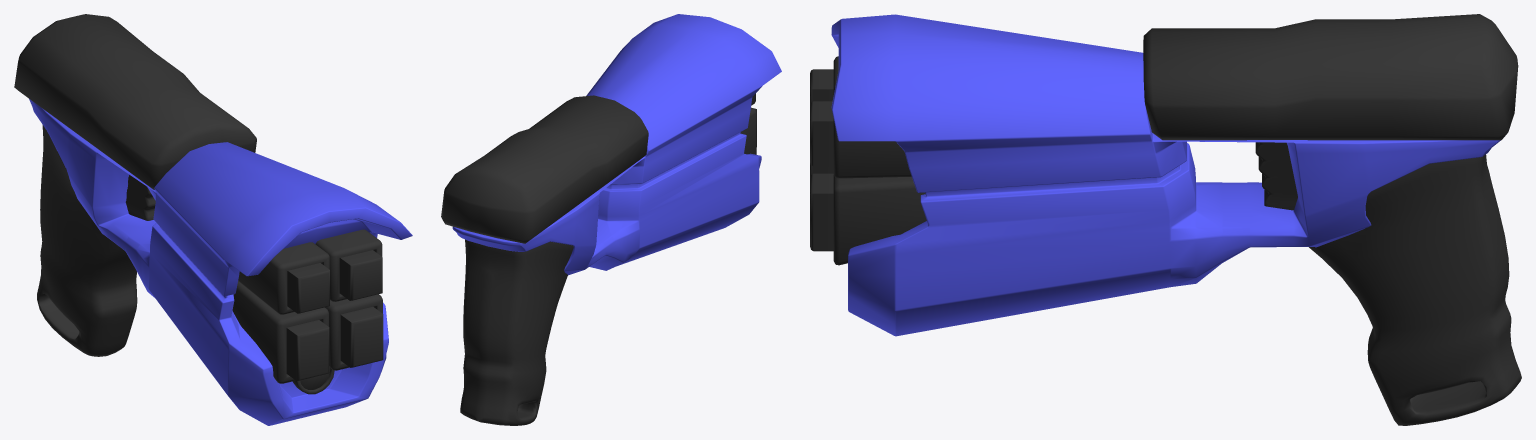
The model's file is FlareGun.fbx.
3 views of the same model, side by side, from view 1: azimuth 30°, elevation 25°; view 2: azimuth 150°, elevation 25°; view 3: azimuth 270°, elevation 25° (orthographic). The views are drawn at different scales.
Parts seen in each view (by area): view 1: Flare Gun; view 2: Flare Gun; view 3: Flare Gun.
Boxes of the visible parts, bbox=[...] form: Flare Gun: bbox=[14, 14, 412, 425]; Flare Gun: bbox=[441, 14, 781, 425]; Flare Gun: bbox=[810, 14, 1521, 425].
Size of the model in its own units: 19.08 by 34.53 by 56.41.
